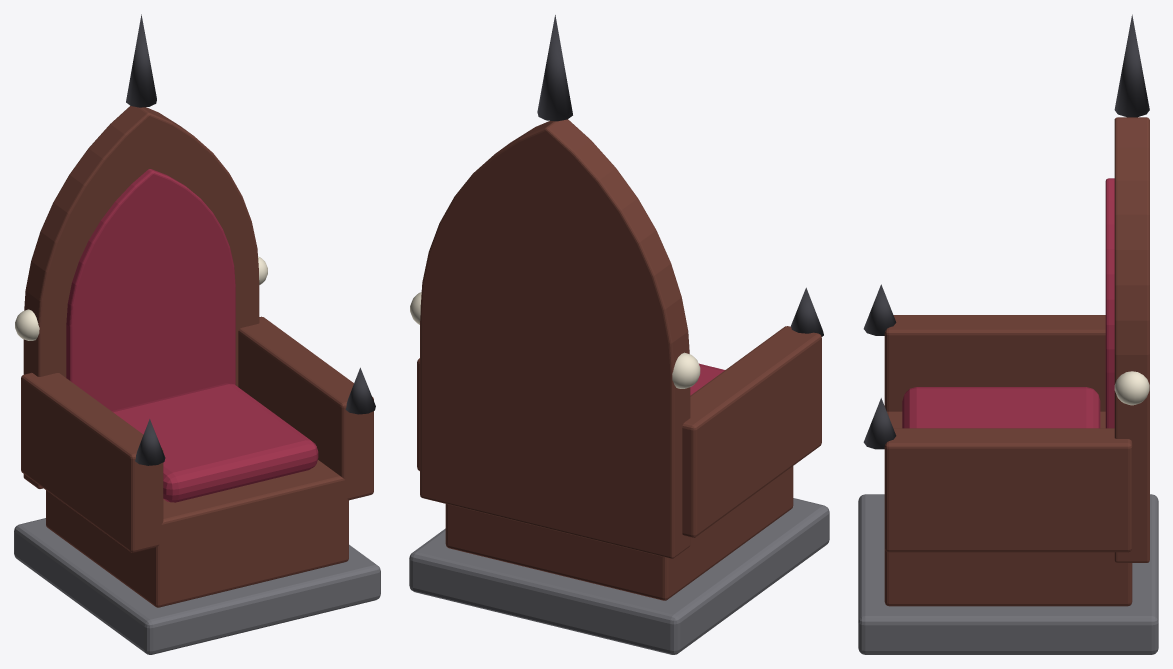
The model's file is throne.glb.
3 renders of one model, left to right at view 1: azimuth 30°, elevation 25°; view 2: azimuth 150°, elevation 25°; view 3: azimuth 270°, elevation 25°, orthographic. The views are drawn at different scales.
Visible parts, largest first — view 1: GD_throne; view 2: GD_throne; view 3: GD_throne.
Part boxes in pixels (x1,y1,x2,y2): GD_throne: [14, 14, 380, 654]; GD_throne: [409, 15, 829, 654]; GD_throne: [858, 14, 1158, 654].
Size of the model in its own units: 0.897 by 1.81 by 0.85.
